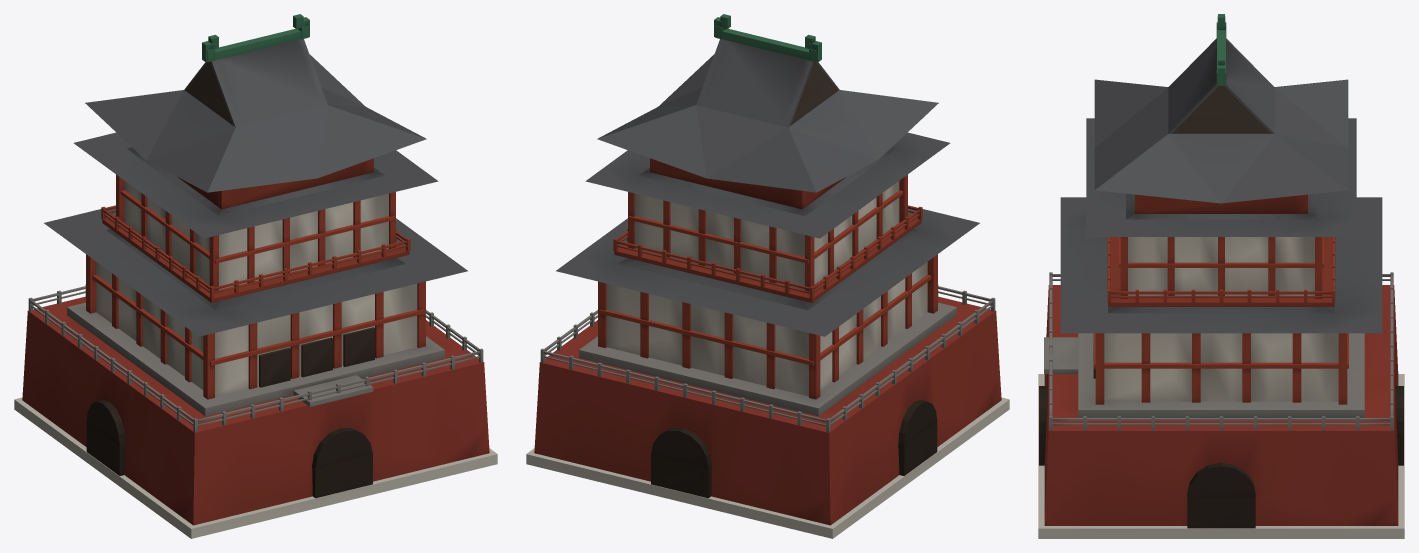
The model's file is bell-tower-1450.glb.
3 views of the same model, side by side, from view 1: azimuth 30°, elevation 25°; view 2: azimuth 150°, elevation 25°; view 3: azimuth 270°, elevation 25° (orthographic). The views are drawn at different scales.
Visible parts, largest first — view 1: p0_base, p2_roofs, p1_halls; view 2: p0_base, p2_roofs, p1_halls; view 3: p2_roofs, p0_base, p1_halls.
Boxes of the visible parts, x1,y1,x2,y2 form: p0_base: (14,284,497,538); p2_roofs: (44,14,467,336); p1_halls: (67,174,444,416); p0_base: (526,284,1009,538); p2_roofs: (556,14,979,336); p1_halls: (579,174,956,416); p2_roofs: (1060,14,1382,333); p0_base: (1038,272,1404,538); p1_halls: (1044,237,1364,417).
Bounding box in the file's own units: 32 × 40.92 × 32.
